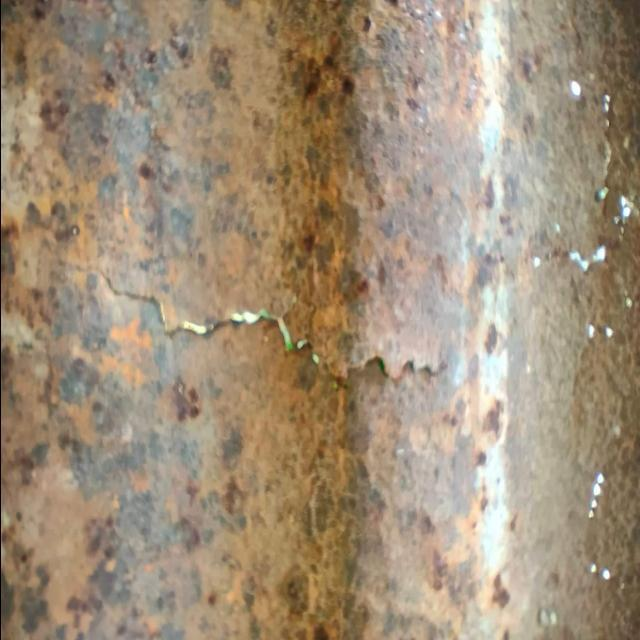Crack: (39, 239, 456, 392)
